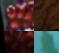altar: (0, 0, 34, 31)
